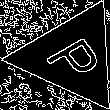P_NE: (36, 28, 106, 86)
